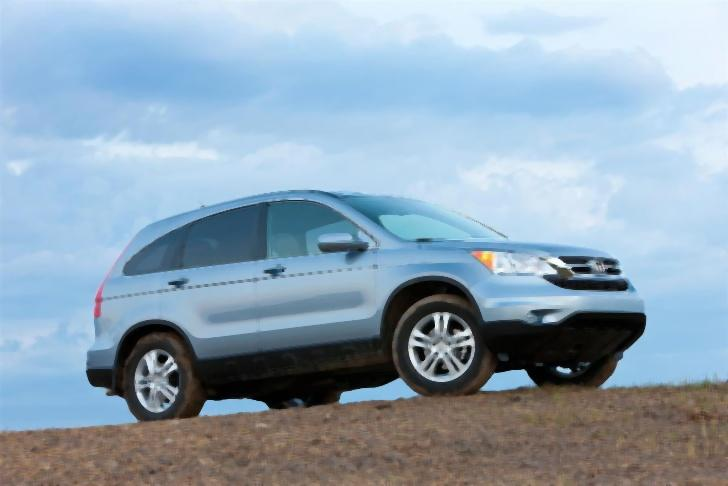Car hood: (419, 234, 619, 262)
Driver-s door - -F-R-: (262, 195, 376, 354)
Fender - -F-R-: (376, 228, 492, 339)
Fender - -R-R-: (113, 269, 159, 346)
Front bumper: (473, 278, 654, 346)
Headlight - -R-: (459, 245, 561, 281)
Passenger-s door - -R-R-: (161, 196, 262, 361)
Rear bumper: (78, 327, 130, 402)
Rear light - -R-: (92, 245, 122, 321)
Side bumper - -R-: (175, 330, 401, 386)
Side mirror - -R-: (309, 228, 370, 257)
